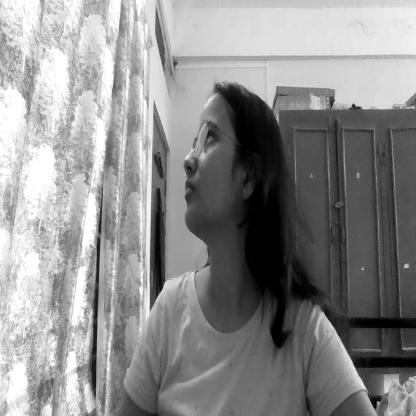Distracted: (178, 65, 293, 252)
